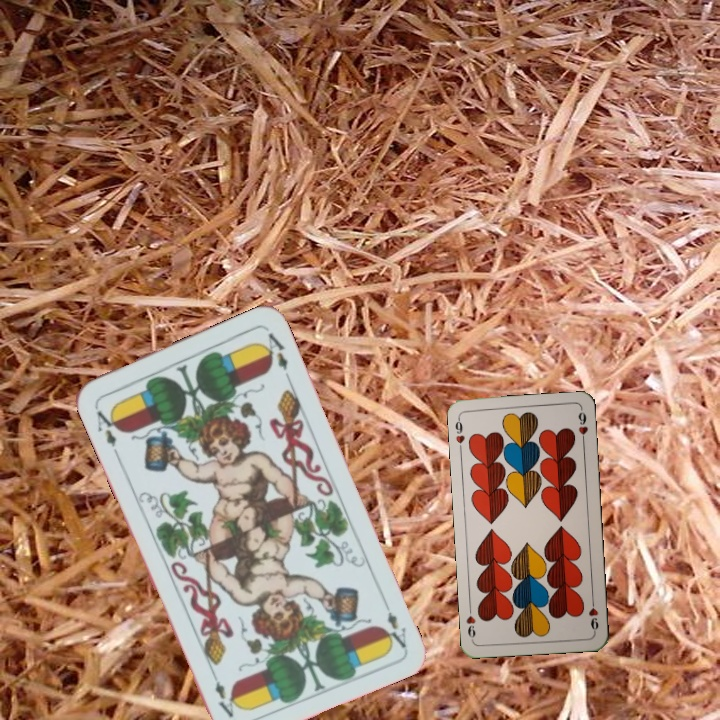EA: (90, 401, 123, 458), (379, 608, 409, 651)
H9: (585, 594, 601, 635), (451, 413, 467, 454)
